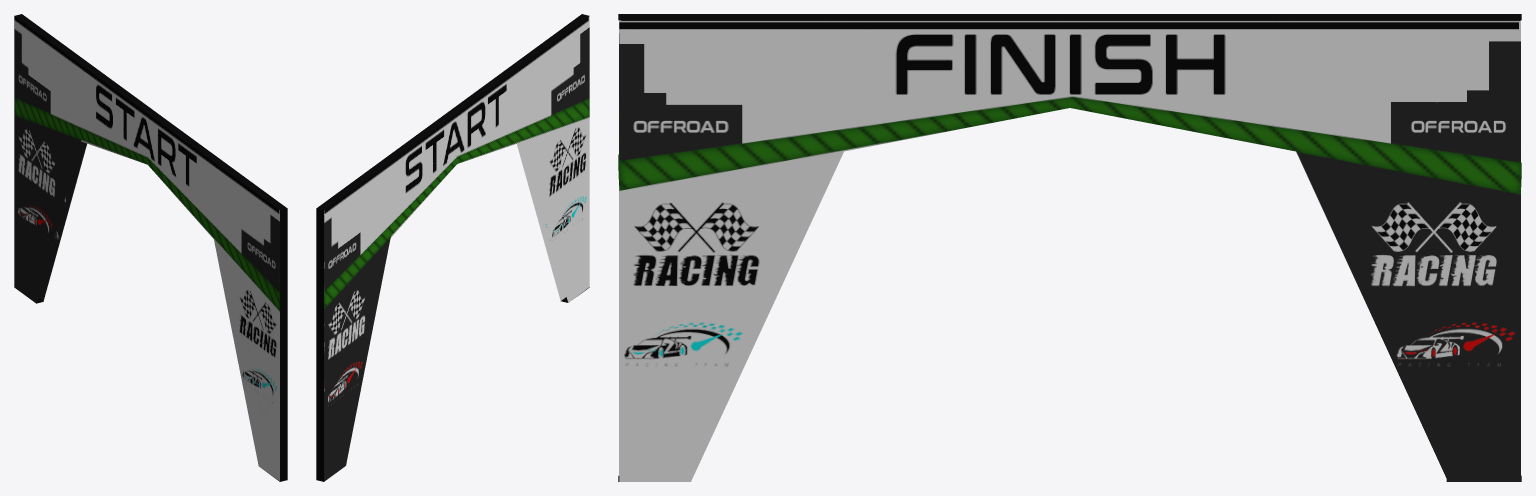
The model's file is Checkpoint.FBX.
3 renders of one model, left to right at view 1: azimuth 30°, elevation 25°; view 2: azimuth 150°, elevation 25°; view 3: azimuth 270°, elevation 25°, orthographic. The views are drawn at different scales.
Visible parts, largest first — view 1: Box001; view 2: Box001; view 3: Box001.
Part boxes in pixels (<box>): Box001: <box>14,14,287,481</box>; Box001: <box>316,14,589,481</box>; Box001: <box>618,14,1521,481</box>.
Size of the model in its own units: 4.34 by 146 by 260.
Materials: 1 (1 with a texture image).
